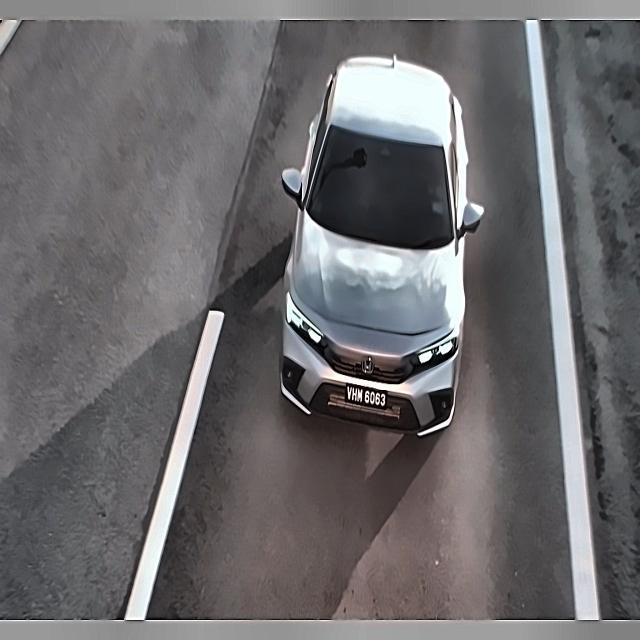car: (340, 379, 396, 414)
